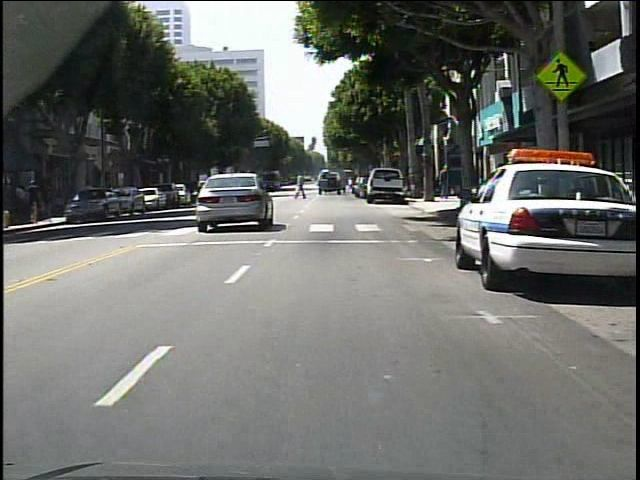person: (28, 180, 43, 224), (438, 163, 454, 203), (15, 184, 28, 223), (294, 170, 309, 202)
